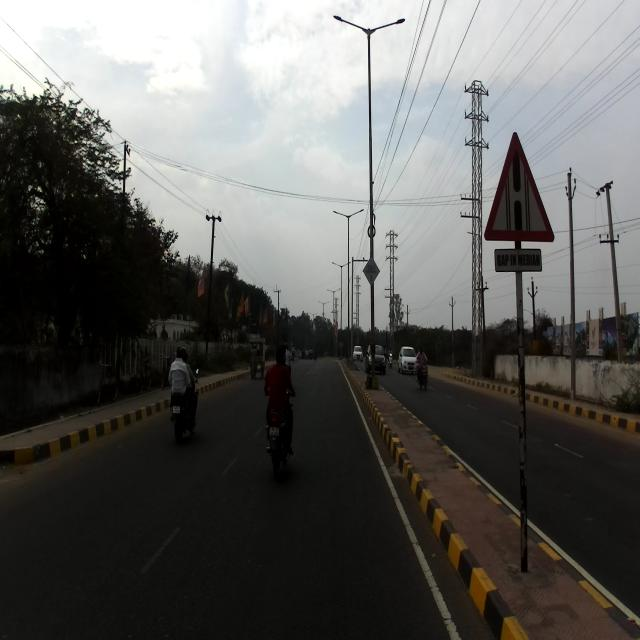motorcycle ahead at: (259, 340, 301, 482), (159, 338, 204, 439)
